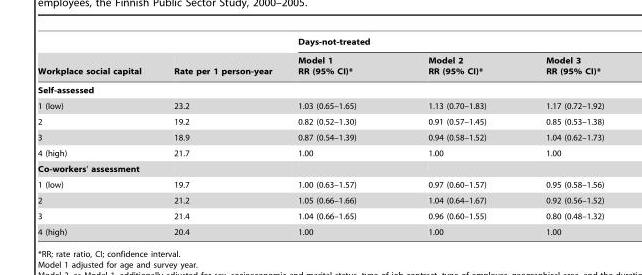table: (37, 37, 603, 236)
table column: (157, 37, 284, 236), (391, 37, 515, 236), (37, 37, 157, 236), (284, 37, 391, 236), (515, 37, 603, 236)
table column header: (37, 37, 603, 80)
table projected row header: (37, 80, 603, 97), (37, 160, 603, 176)
table row: (37, 50, 603, 80), (37, 80, 603, 97), (37, 97, 603, 113), (37, 113, 603, 129), (37, 129, 603, 145), (37, 160, 603, 176), (37, 176, 603, 192), (37, 192, 603, 208), (37, 145, 603, 160), (37, 208, 603, 223), (37, 37, 603, 50), (37, 223, 603, 236)
table spanning cell: (157, 37, 284, 80), (37, 37, 157, 80), (284, 37, 603, 50)
